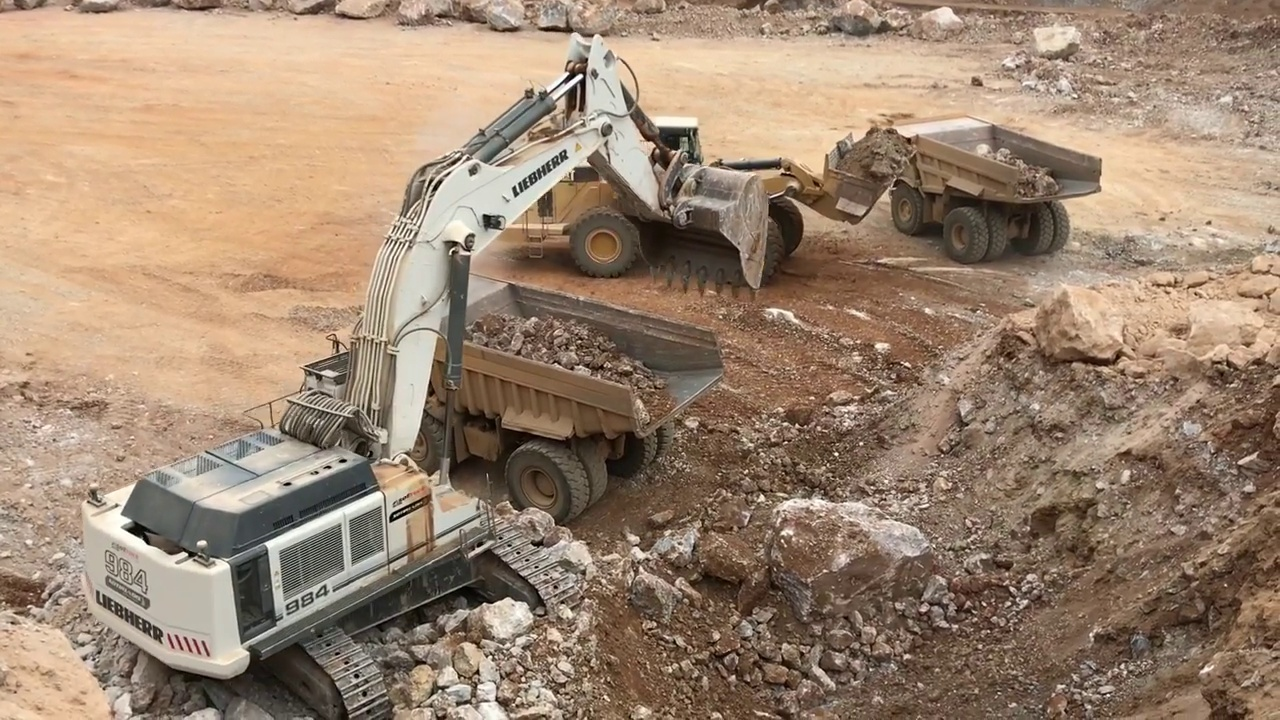dumper: (385, 269, 729, 521), (896, 111, 1107, 263)
excavator: (78, 32, 772, 720)
wheel loader: (536, 116, 919, 275)
